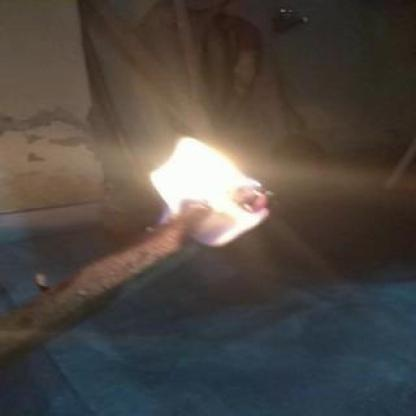fire: (143, 127, 281, 246)
